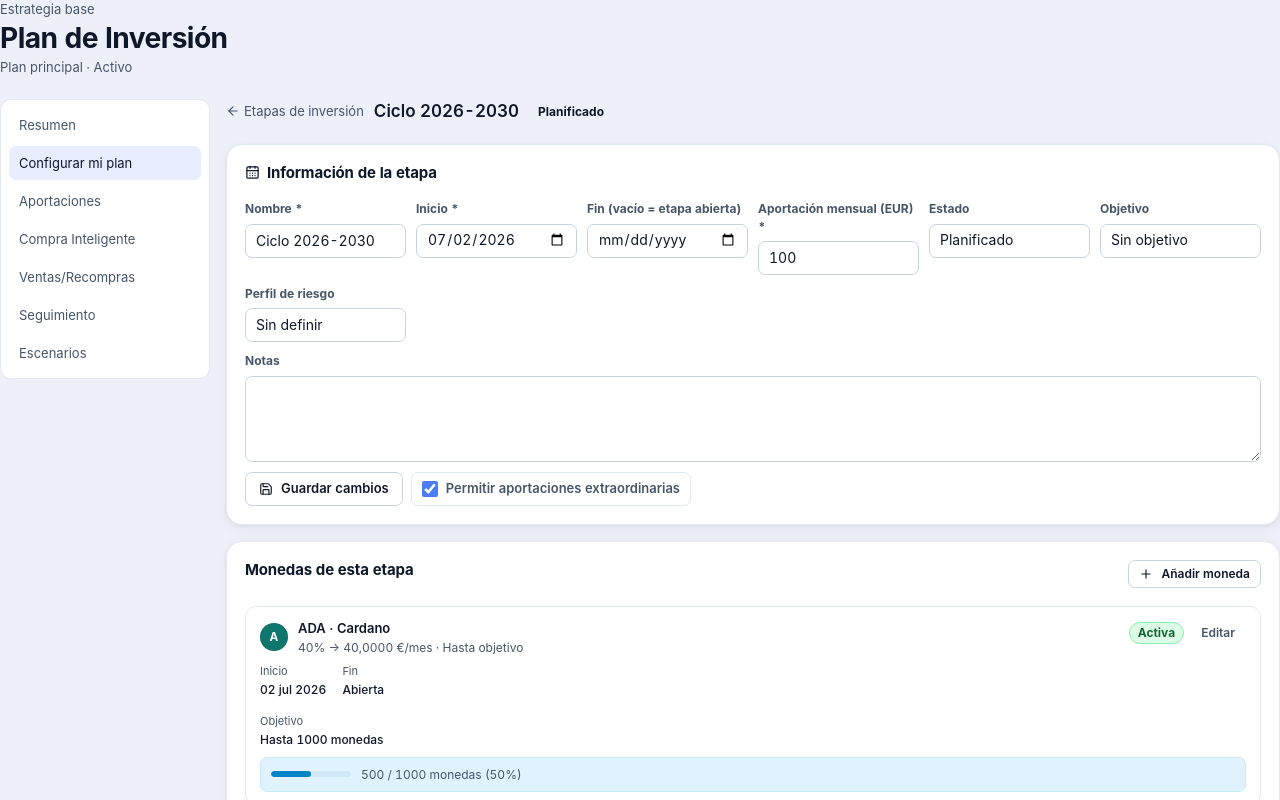
Test: PlanEtapaActivos — progreso de objetivos (G-A3) › botón 'Marcar como alcanzado' aparece en el formulario cuando hay datos de posición
Click the button "Editar" at x=1218, y=633, box [1190, 619, 1246, 647]
(page scrolled)
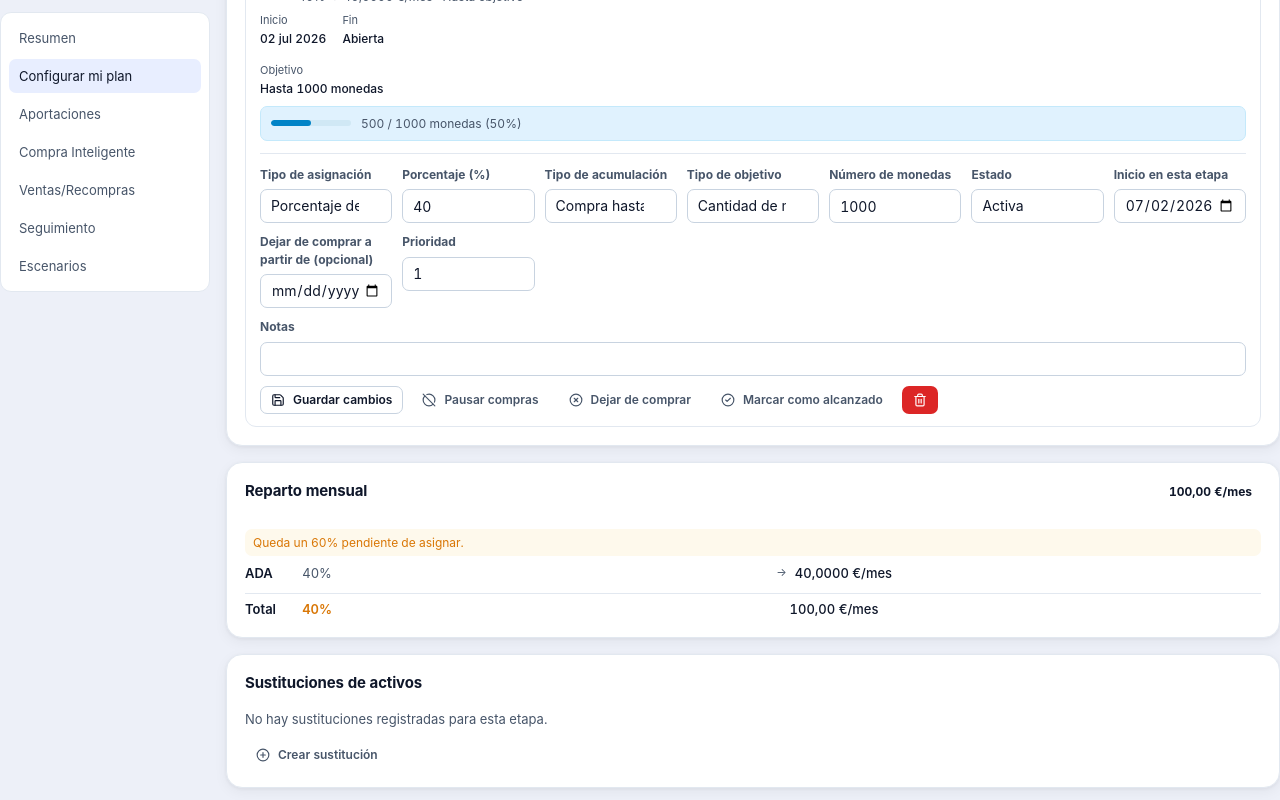
expect the button "Marcar como alcanzado" is shown: met, box [710, 386, 894, 414]
